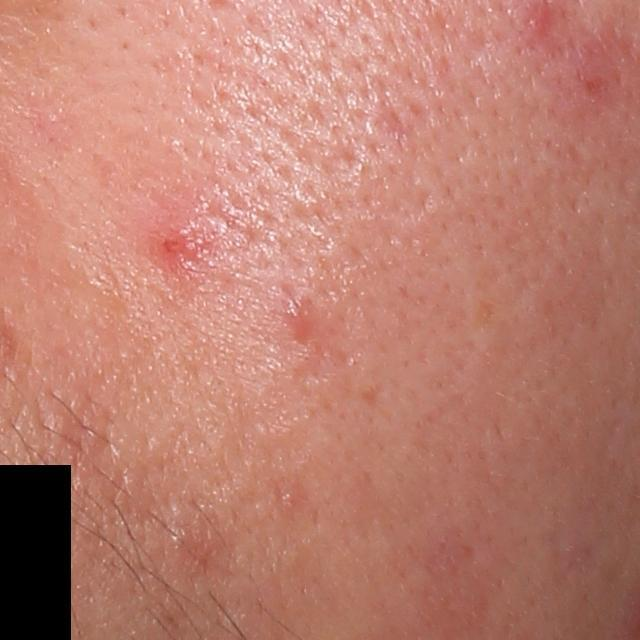papule: (158, 220, 207, 265), (277, 293, 318, 345), (520, 3, 555, 39)
